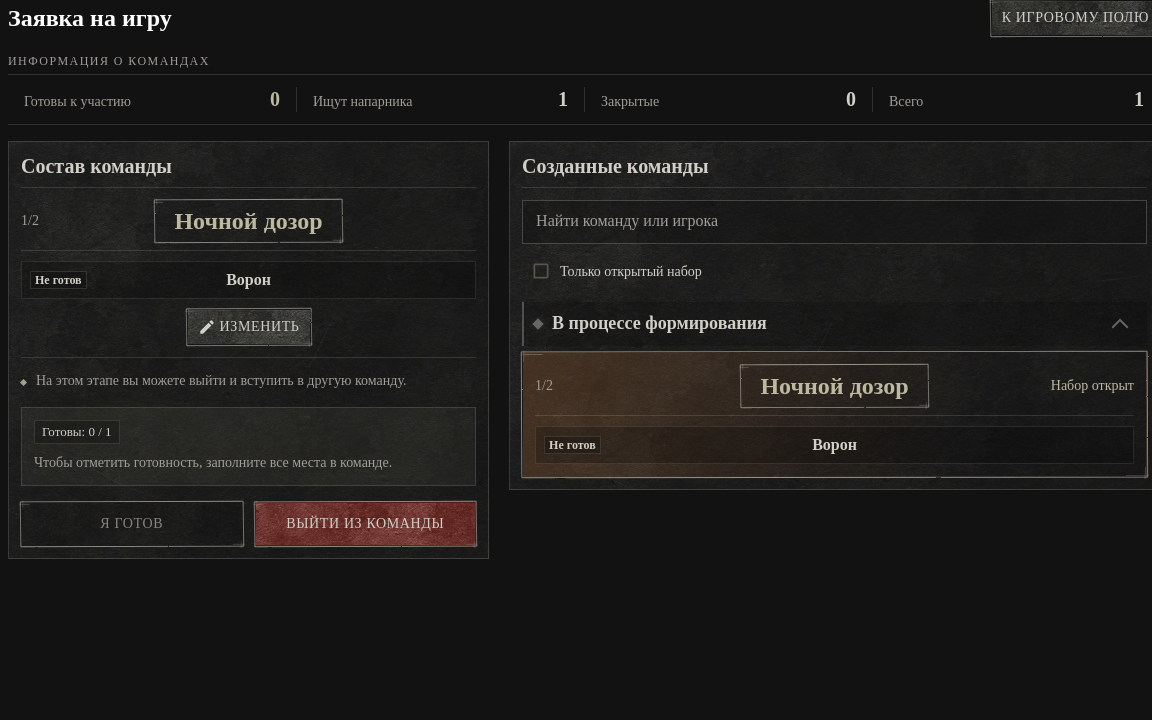
Test: Application decisions › opens name editing on demand and saves only after an explicit action
Check: the field labelled "Название команды" is not shown
Step 1. Click the button with aria-label "Изменить название команды" → (248, 327), box top-left (186, 309), bottom-right (310, 345)
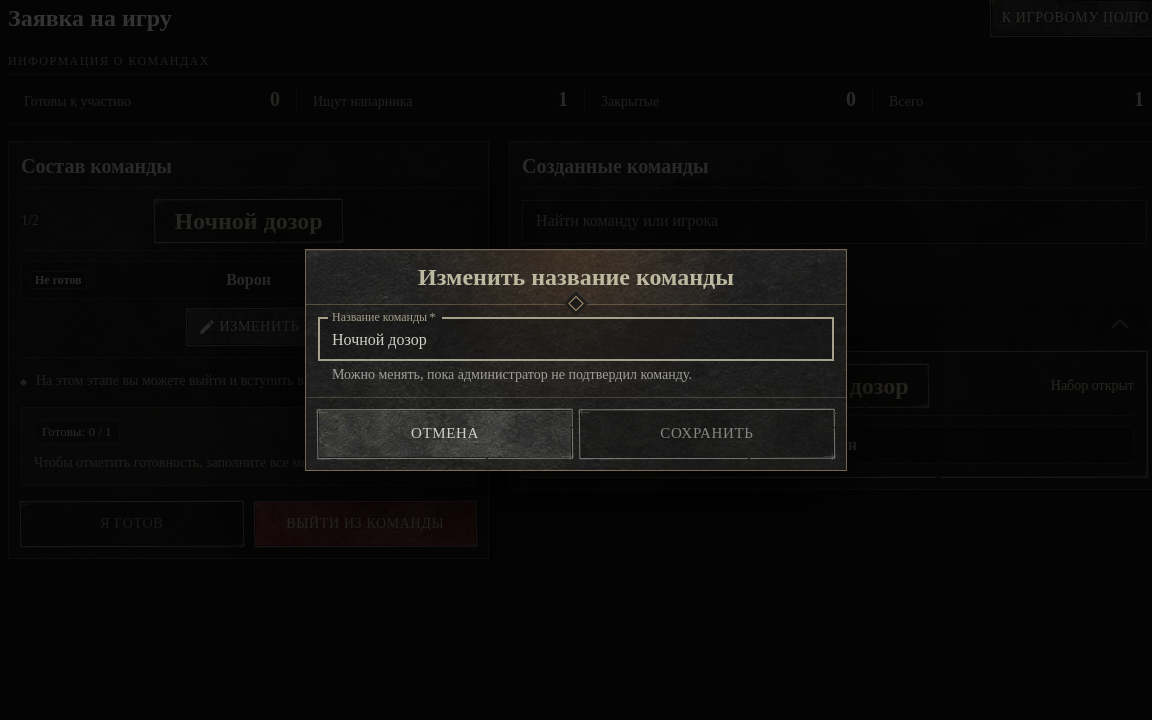
Step 2. Replace the text in the field labelled "Название команды" with "Несохранённое имя" → (576, 339), box top-left (318, 319), bottom-right (834, 359)
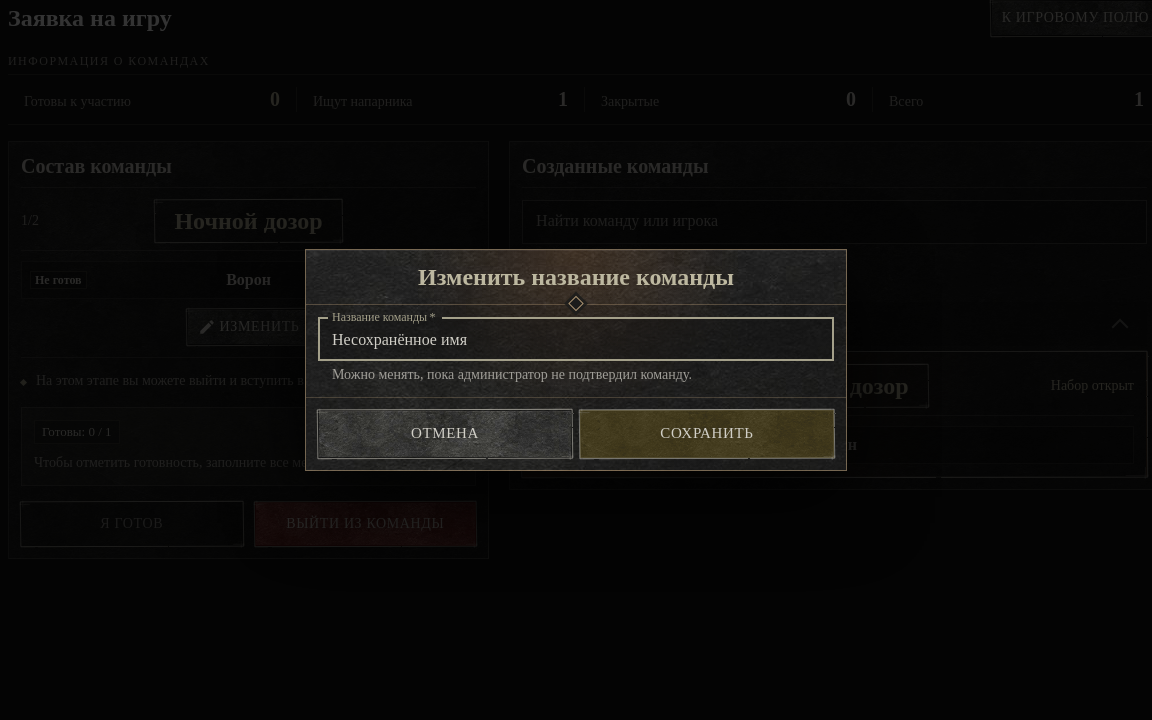
Step 3. Click the button "Отмена" → (445, 434), box top-left (318, 410), bottom-right (572, 458)
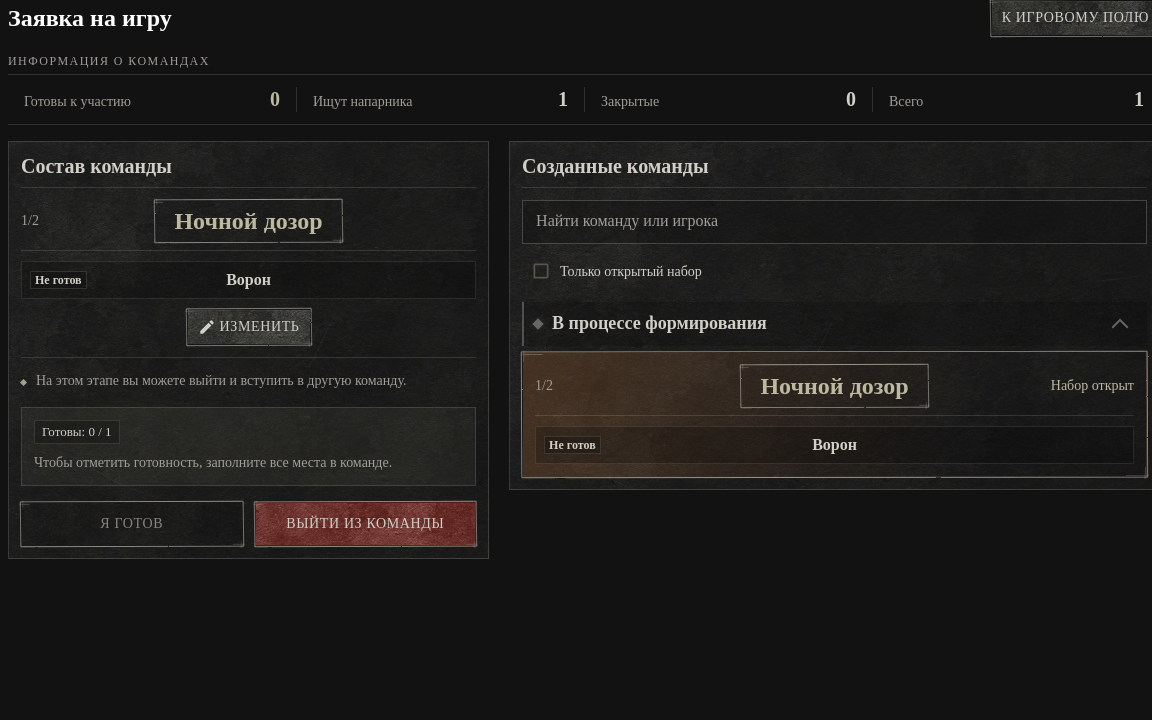
Check: the dialog is gone
Step 4. Click the button with aria-label "Изменить название команды" → (248, 327), box top-left (186, 309), bottom-right (310, 345)
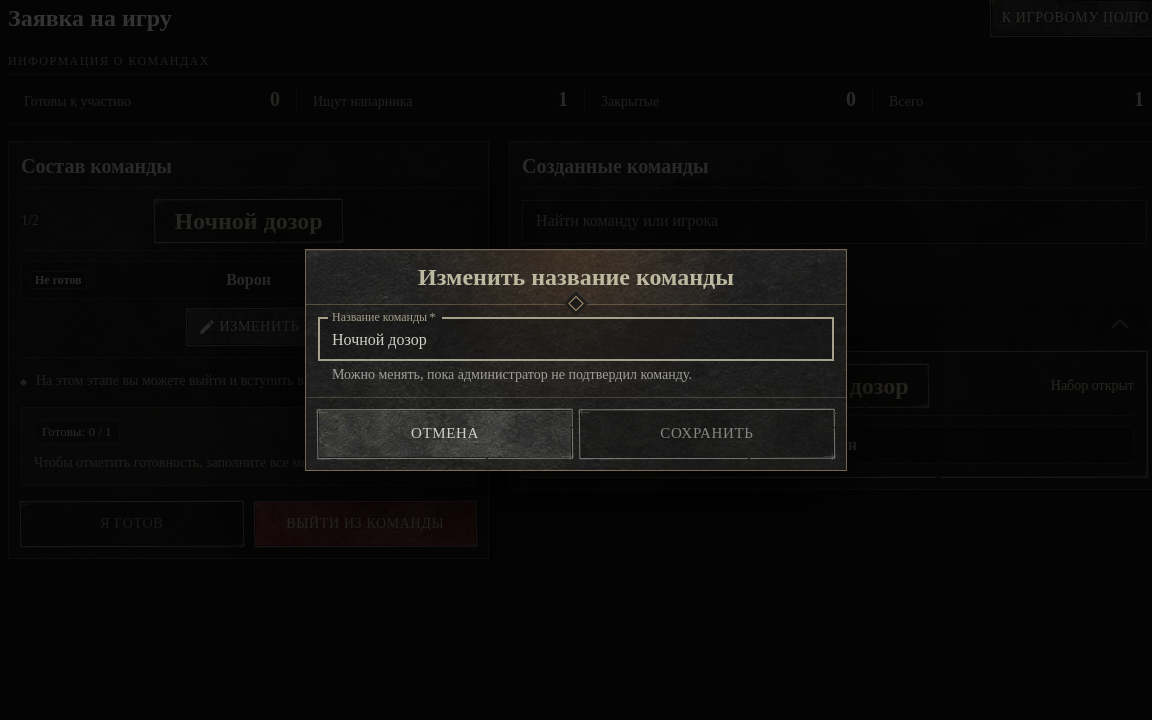
Check: the field labelled "Название команды" holds "Ночной дозор"
Check: the button "Сохранить" is disabled, box top-left (580, 410), bottom-right (834, 458)
Step 5. Replace the text in the field labelled "Название команды" with "  Охотники  " → (576, 339), box top-left (318, 319), bottom-right (834, 359)
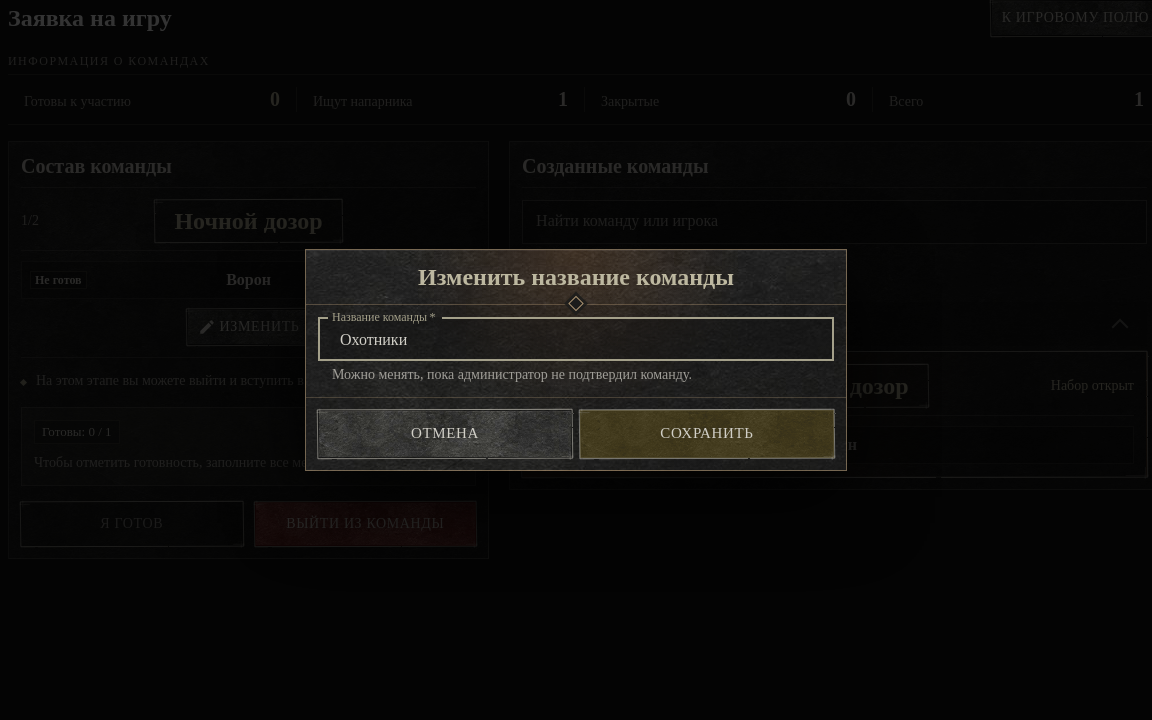
Step 6. Click the button "Сохранить" → (707, 434), box top-left (580, 410), bottom-right (834, 458)
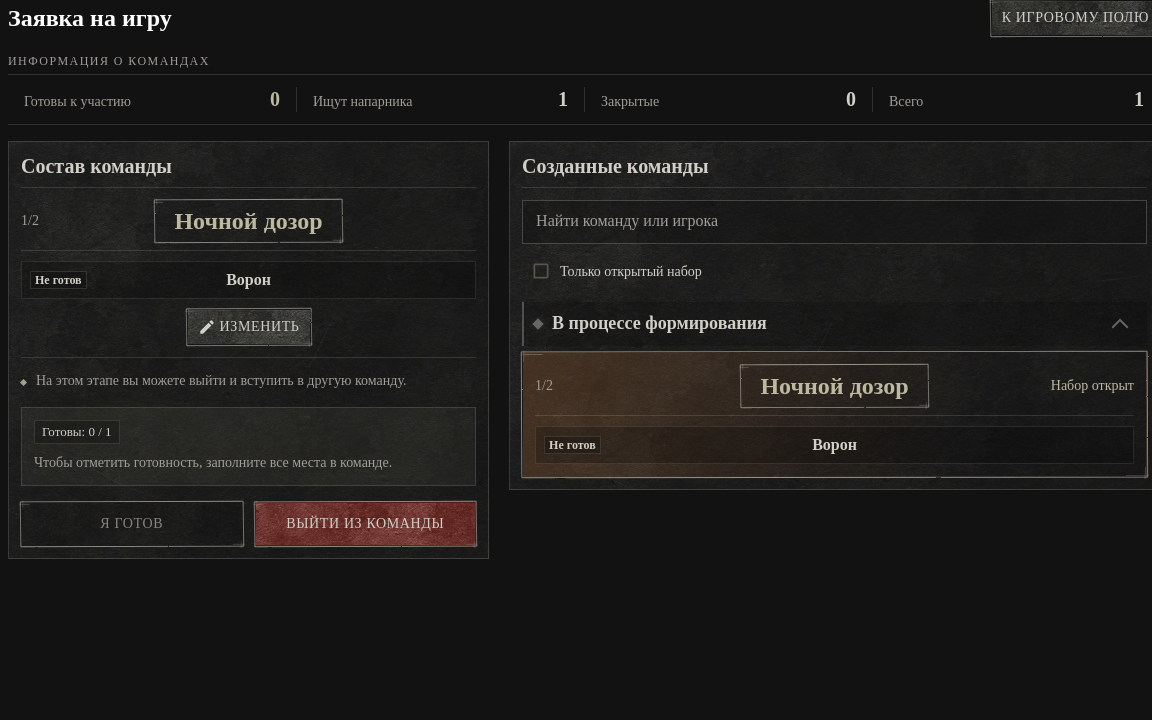
Check: the dialog is gone
